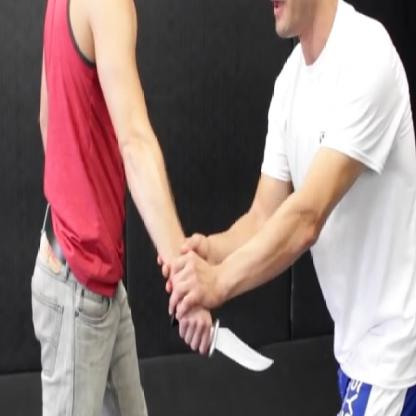knife: (167, 305, 279, 387)
